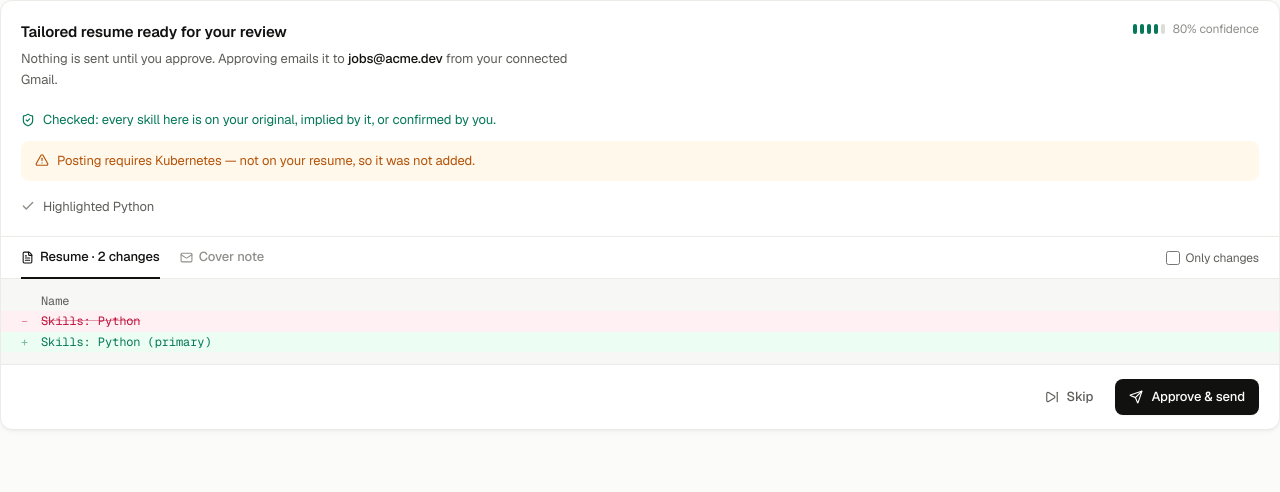
it: ReviewApplyCard › surfaces backend errors such as Gmail not connected
Click the button "Approve & send": (1187, 397) x1=1115 y1=379 x2=1259 y2=415
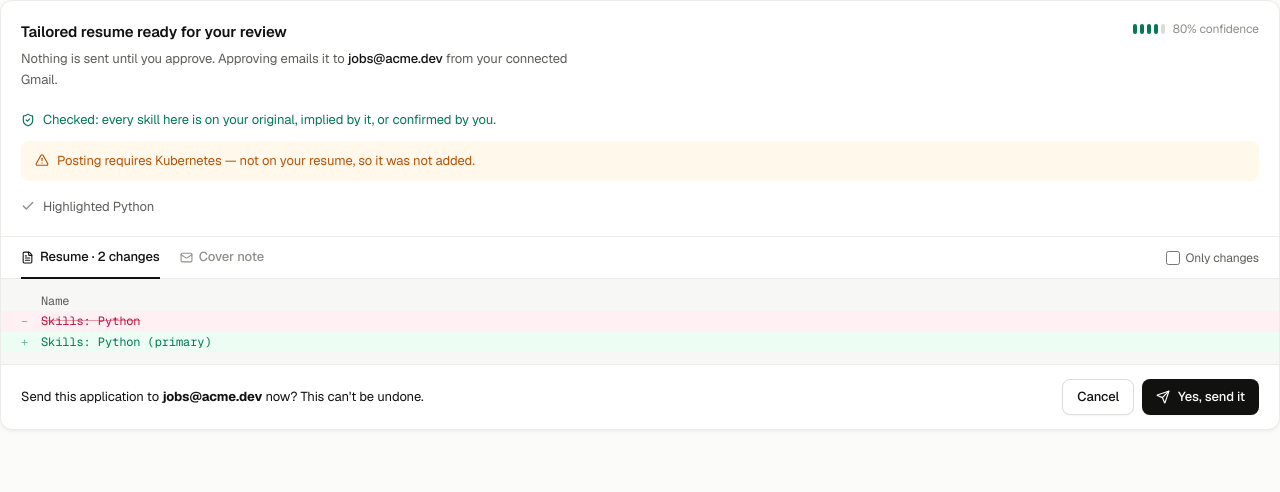
Click the button "Yes, send it": (1201, 397) x1=1142 y1=379 x2=1259 y2=415
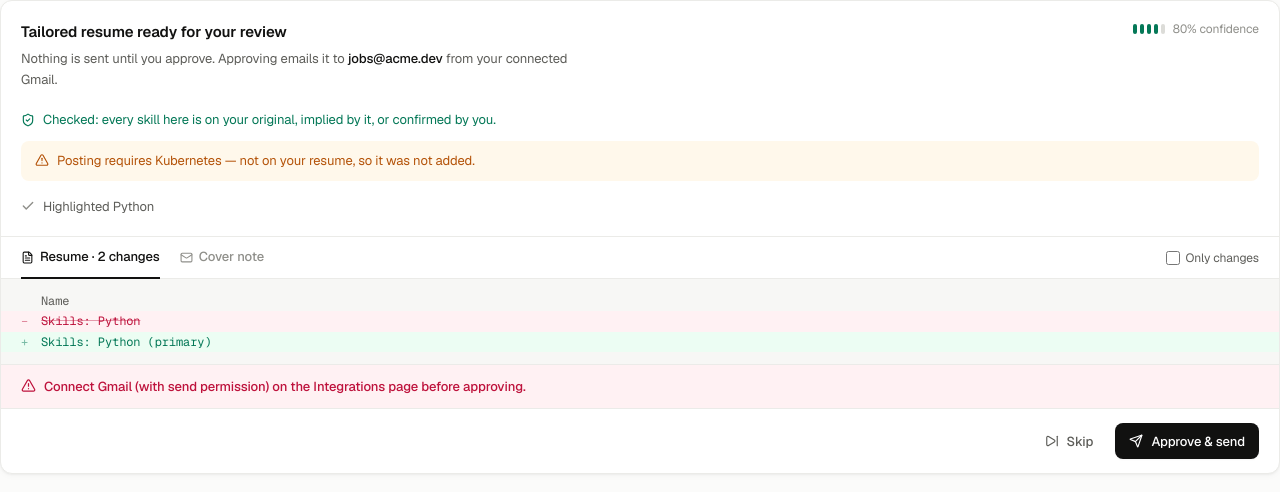
Expected: the text "Connect Gmail" is shown, x1=44 y1=378 x2=526 y2=395
